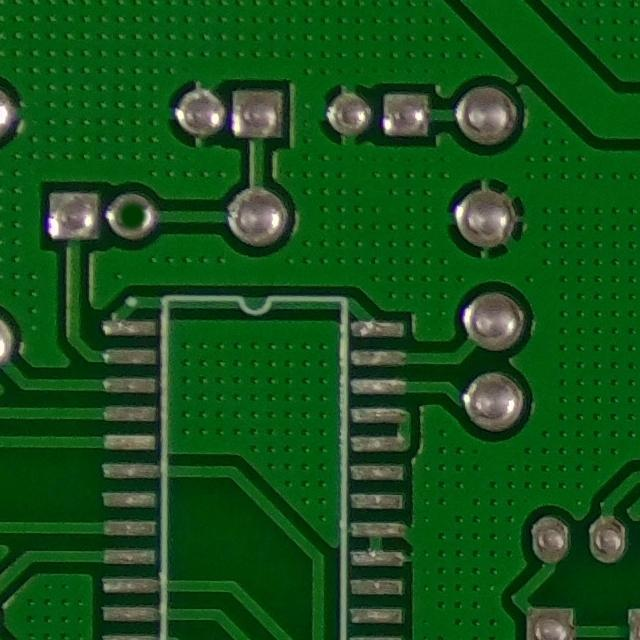missing_hole: (104, 180, 162, 243)
